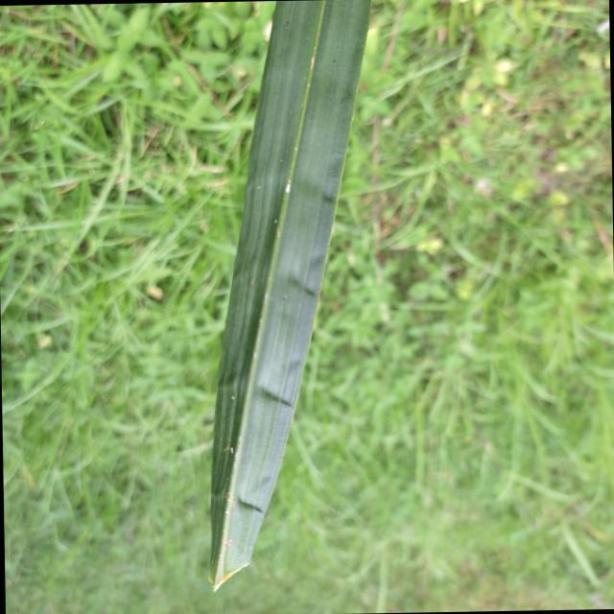Boron: (208, 0, 364, 595)
